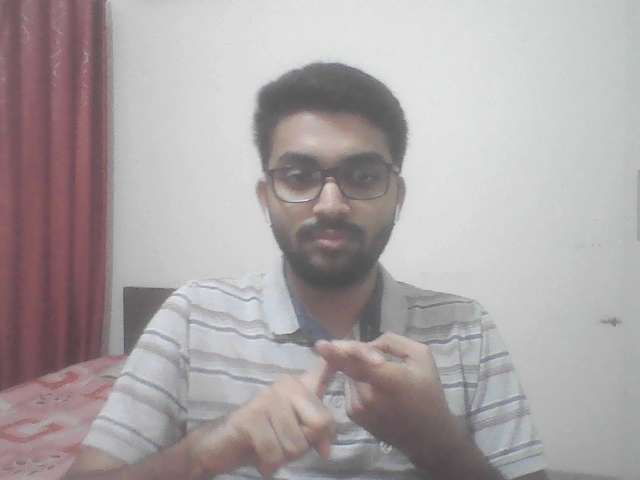friend: (172, 298, 494, 476)
